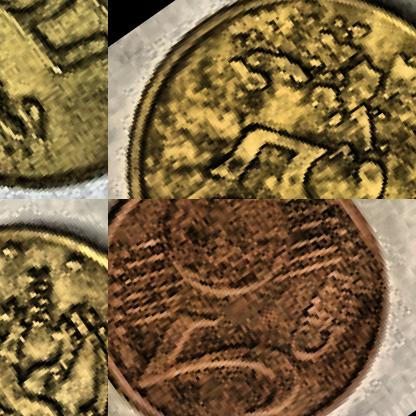coin: (108, 199, 415, 415), (108, 0, 415, 198), (0, 199, 107, 415), (0, 0, 107, 198)
